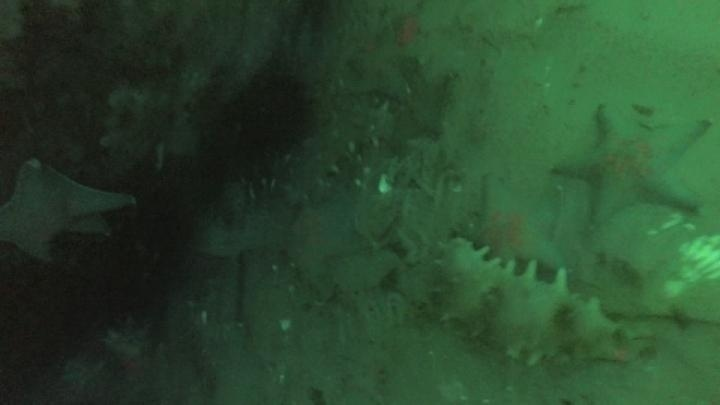echinus: (214, 60, 317, 167), (98, 315, 214, 403)
holothurian: (430, 237, 635, 371), (275, 103, 395, 203)
scallop: (581, 202, 720, 327)
starfish: (550, 103, 713, 226), (1, 156, 137, 267), (465, 176, 568, 273), (281, 197, 367, 293), (343, 23, 420, 102), (385, 68, 457, 143)
